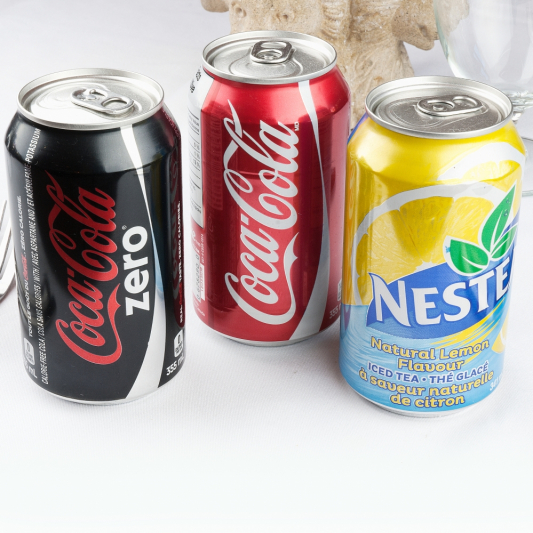cylinder: (338, 75, 527, 418), (4, 67, 186, 406), (186, 29, 351, 348)
